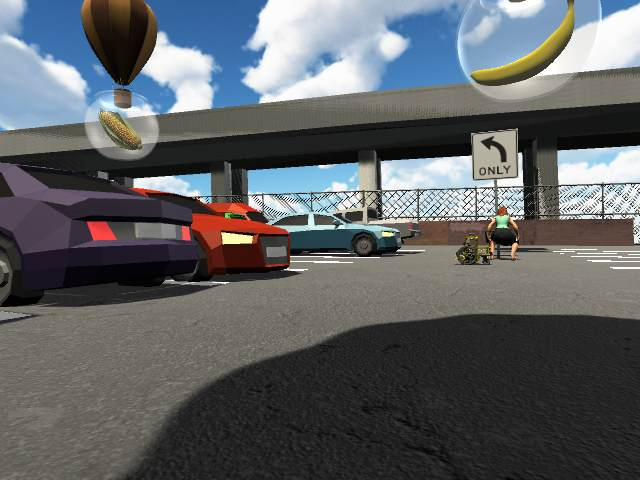arrow_left: (479, 135, 511, 165)
